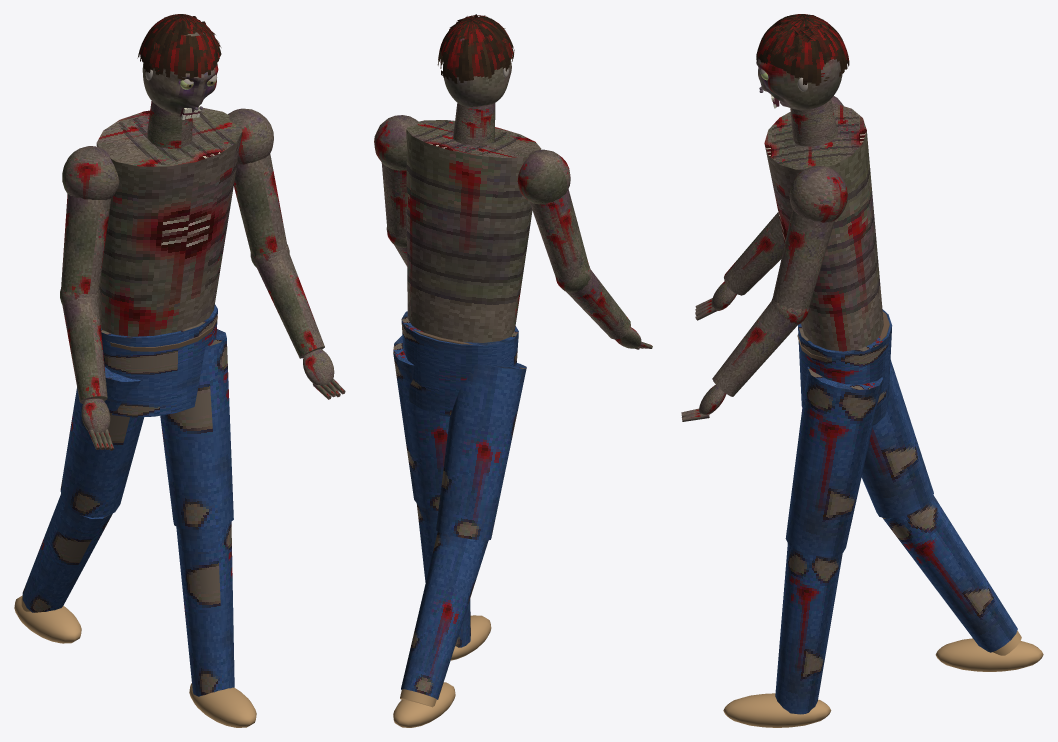
Rendered from Zombie_105.glb.
3 renders of one model, left to right at view 1: azimuth 30°, elevation 25°; view 2: azimuth 150°, elevation 25°; view 3: azimuth 270°, elevation 25°, orthographic. The views are drawn at different scales.
Parts seen in each view (by area): view 1: Zombie_105, object 43, object 3, object 10, object 16, object 11, object 4; view 2: Zombie_105, object 43, object 3, object 16, object 2; view 3: Zombie_105, object 43, object 10, object 16, object 3.
Part boxes in pixels (x1,y1,x2,y2): Zombie_105: (14,101,287,727); object 43: (137,14,221,78); object 3: (62,297,107,403); object 10: (256,252,324,358); object 16: (142,32,218,117); object 11: (303,349,334,385); object 4: (81,398,110,433); Zombie_105: (374,103,589,727); object 43: (437,15,514,81); object 3: (566,270,630,339); object 16: (443,38,511,106); object 2: (555,266,591,292); Zombie_105: (723,96,1043,727); object 43: (756,14,849,83); object 10: (712,301,798,396); object 16: (756,31,842,110); object 3: (724,212,784,295).
Bounding box in the file's own units: 0.6555 × 1.79 × 0.8475.
16 materials, 6 textured.
